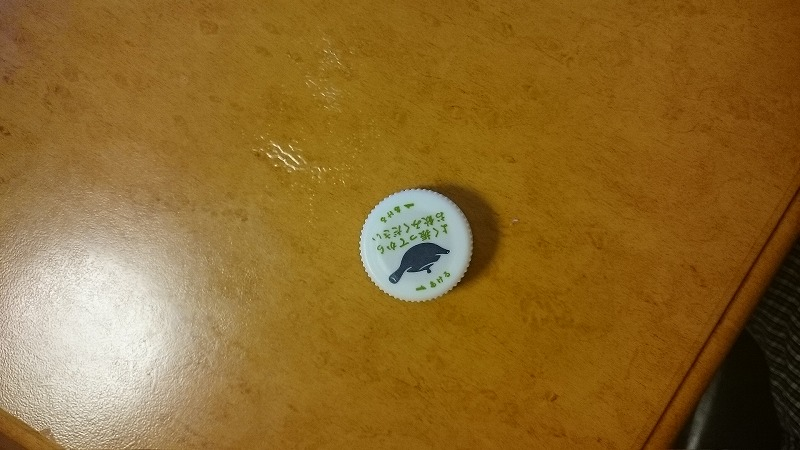A: (353, 175, 480, 305)
